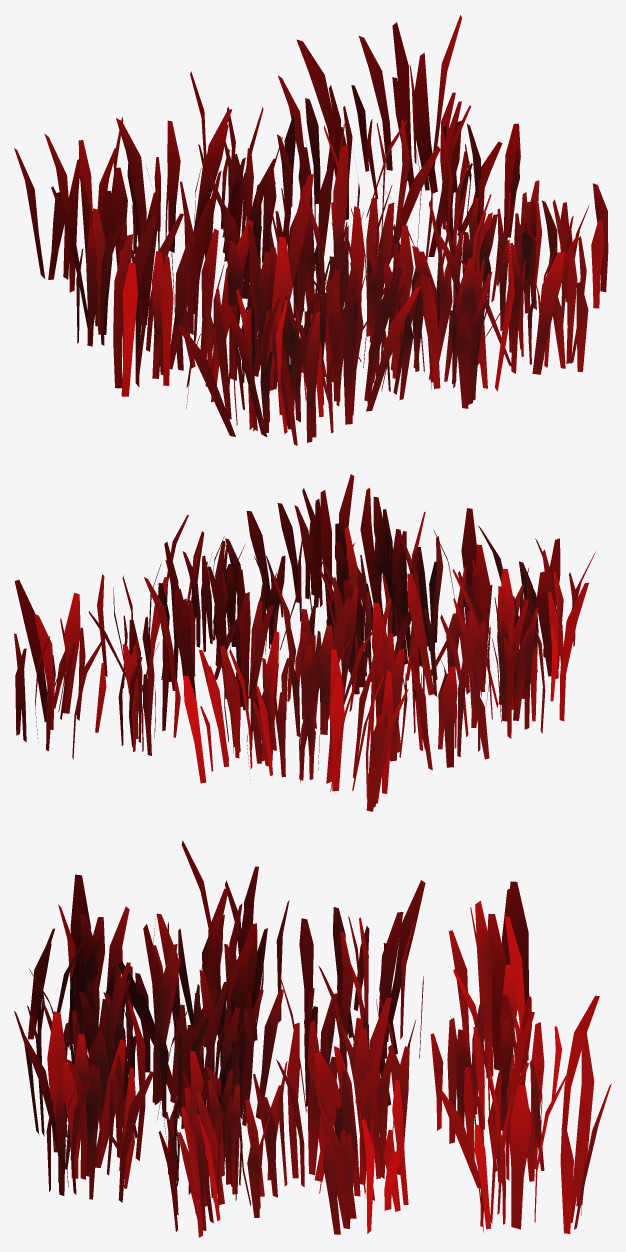
The model's file is SM_Oat_1.fbx.
3 renders of one model, top to bottom at view 1: azimuth 30°, elevation 25°; view 2: azimuth 150°, elevation 25°; view 3: azimuth 270°, elevation 25°, orthographic. The views are drawn at different scales.
Visible parts, largest first — view 1: SM_Oat_1; view 2: SM_Oat_1; view 3: SM_Oat_1.
Part boxes in pixels (bbox=[...]): SM_Oat_1: bbox=[14, 15, 608, 445]; SM_Oat_1: bbox=[14, 474, 595, 811]; SM_Oat_1: bbox=[14, 840, 611, 1237].
Bounding box in the file's own units: 1.19 × 0.4235 × 1.21.
